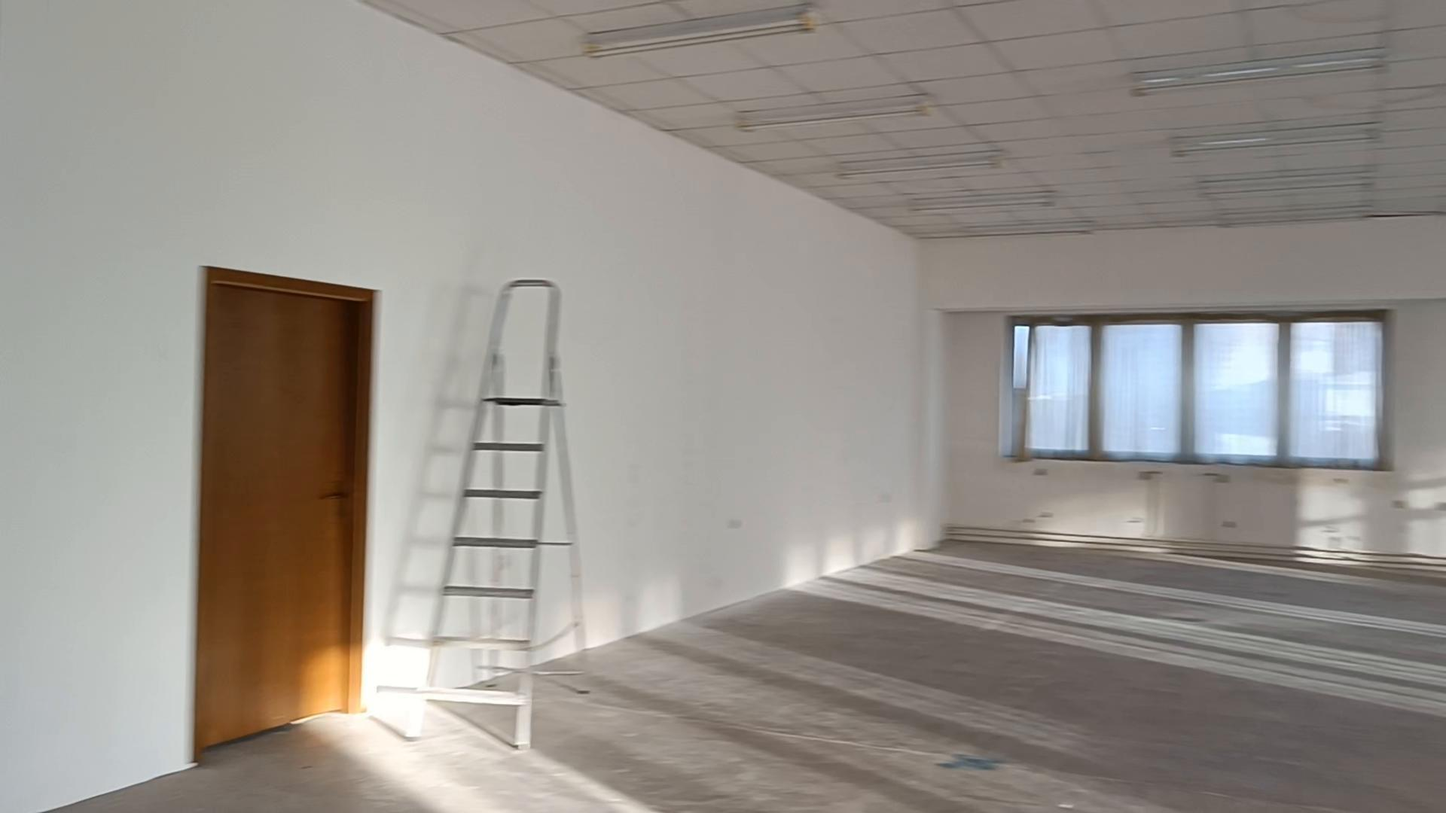ceiling: (365, 0, 1445, 237)
floor: (61, 542, 1445, 812)
pillar: (194, 267, 376, 756)
wall: (0, 0, 1445, 812)
